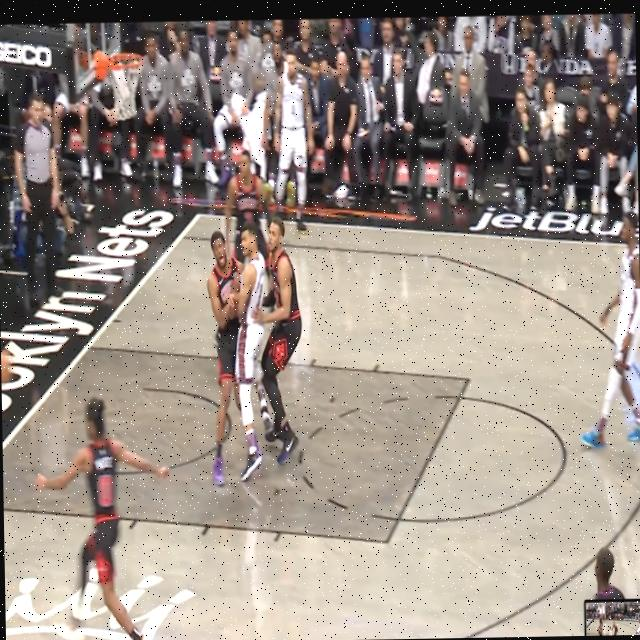foul: (160, 206, 351, 509)
